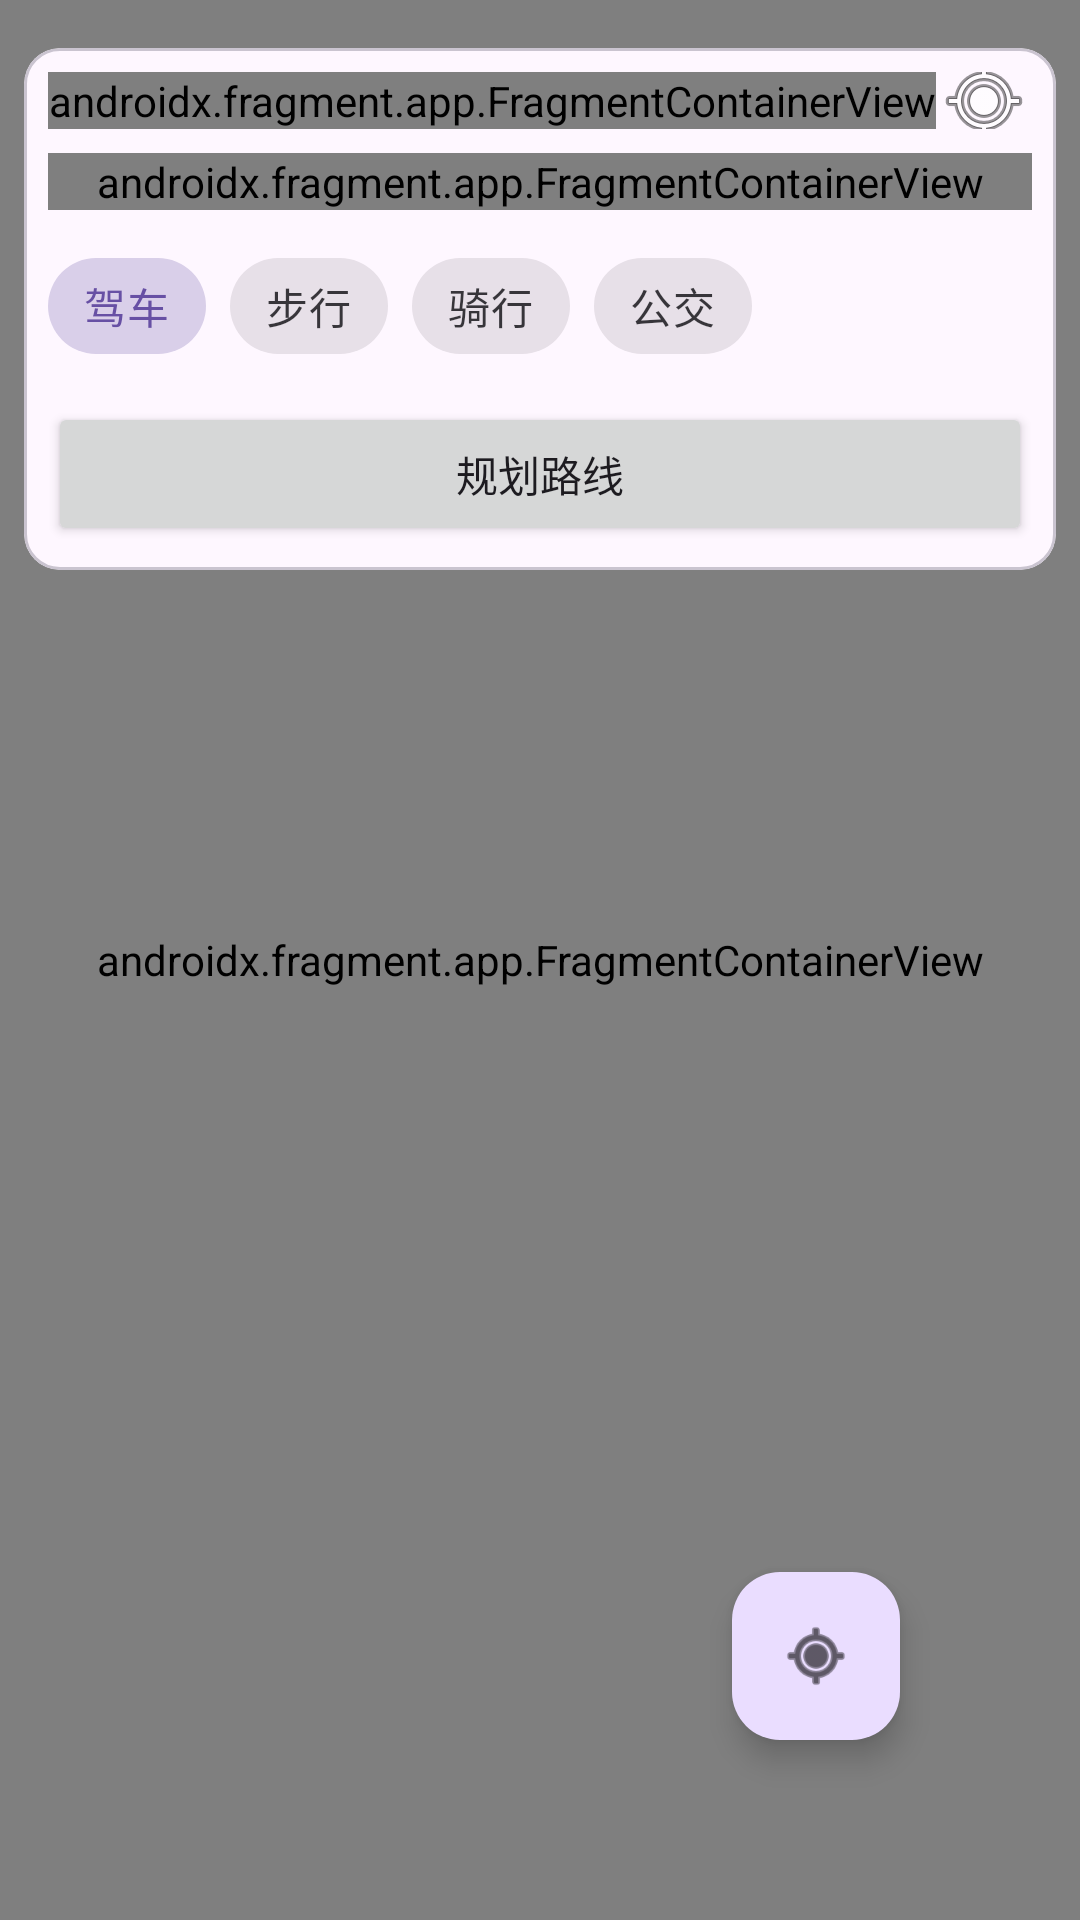

Icon click points for this 1080px×1920px phone screenshot, format (x,y):
定位到我的当前位置: (816,1656)
将我的位置设为出发点: (984,100)
